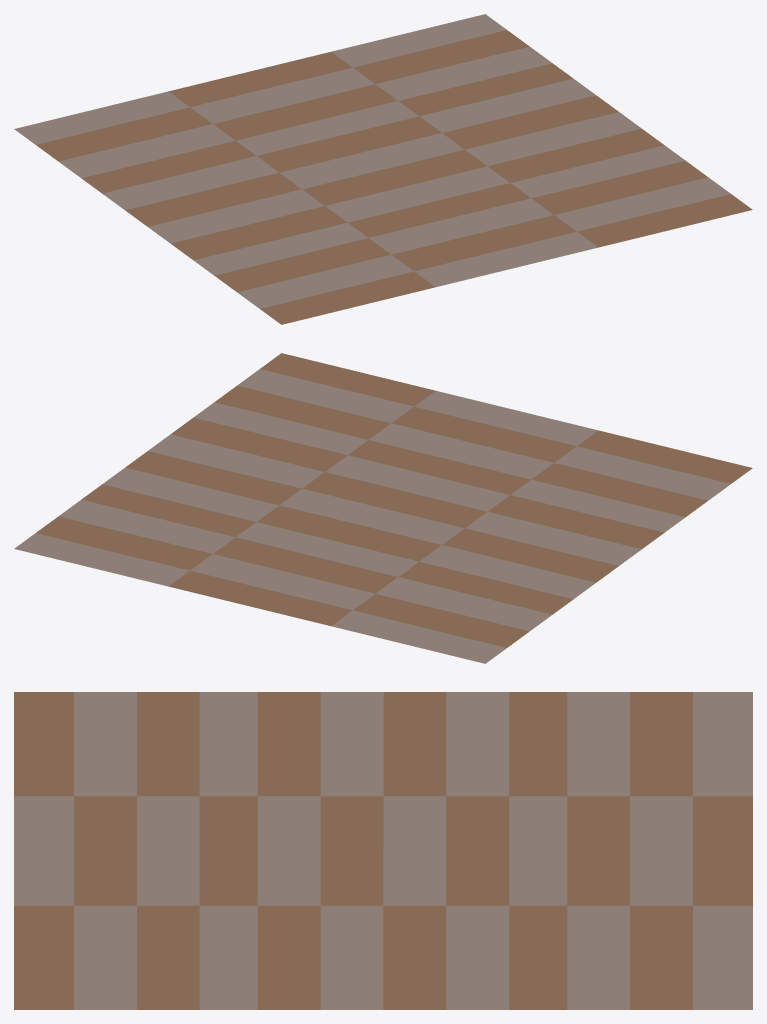
Rendered from DiMian4_Mo.fbx.
The picture shows the model from 3 angles, top to bottom: view 1: azimuth 30°, elevation 25°; view 2: azimuth 150°, elevation 25°; view 3: azimuth 270°, elevation 25°; orthographic projection. The views are drawn at different scales.
Parts seen in each view (by area): view 1: 对象011; view 2: 对象011; view 3: 对象011.
Boxes of the visible parts, <box> form: 对象011: <box>14,14,752,324</box>; 对象011: <box>14,353,752,663</box>; 对象011: <box>14,692,752,1009</box>.
Size of the model in its own units: 840 by 0.000335 by 825.
